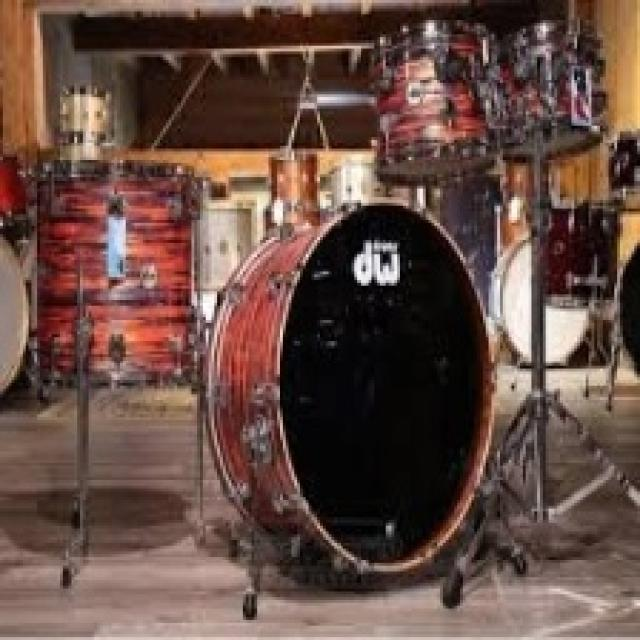drums: (27, 20, 640, 625)
